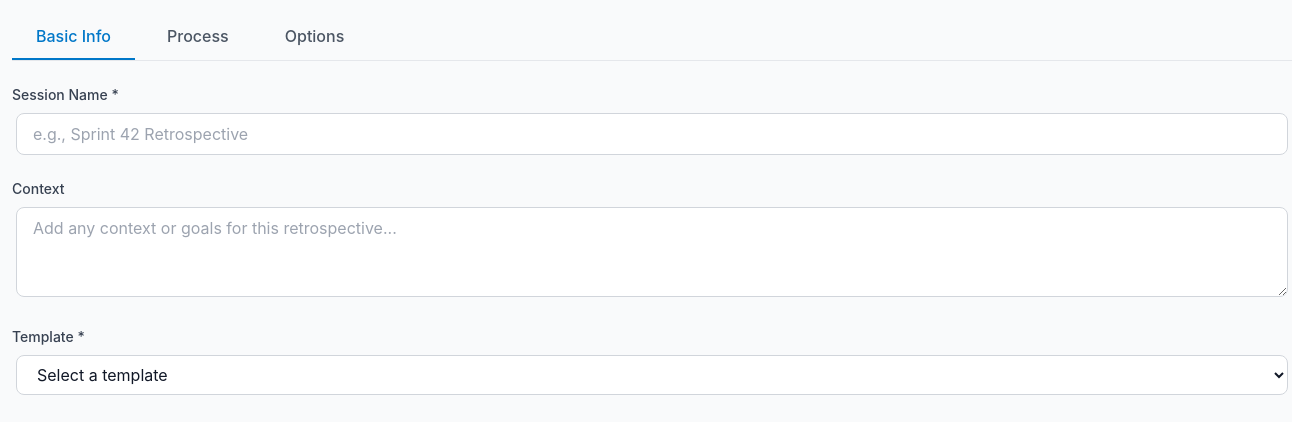
it: CreateRetroForm › Tab Navigation › switches tabs when clicking tab buttons directly
Click the button "Process" at coordinates (198, 36), box x1=143 y1=12 x2=253 y2=60
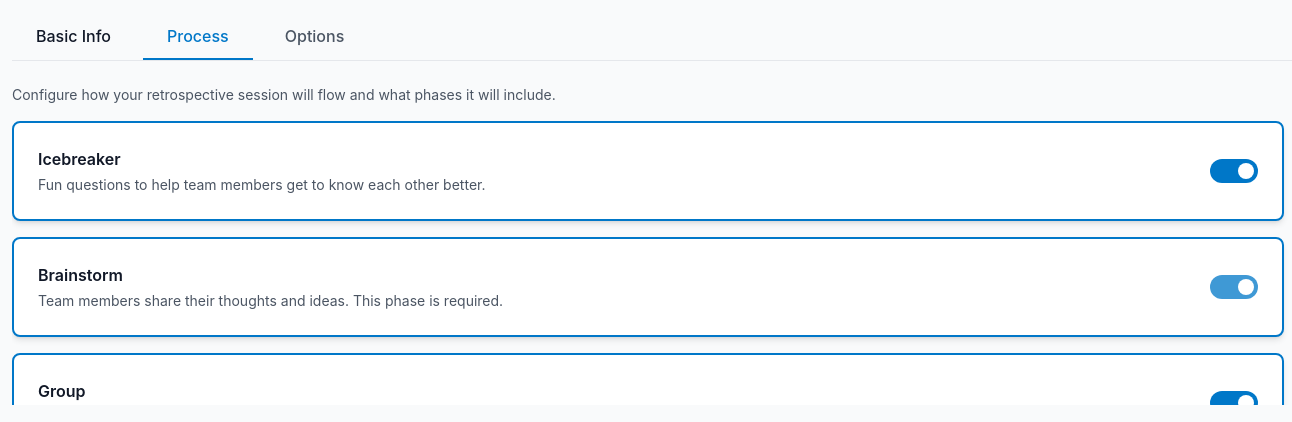
expect the heading "Icebreaker" is shown: met, box x1=38 y1=149 x2=121 y2=169
